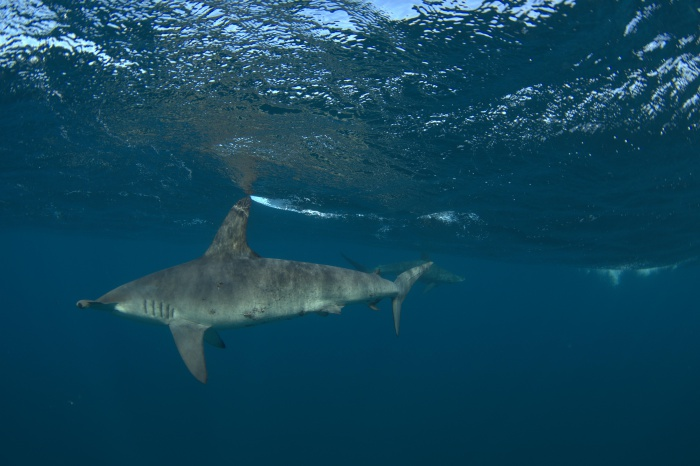Hammer: (68, 180, 456, 386)
